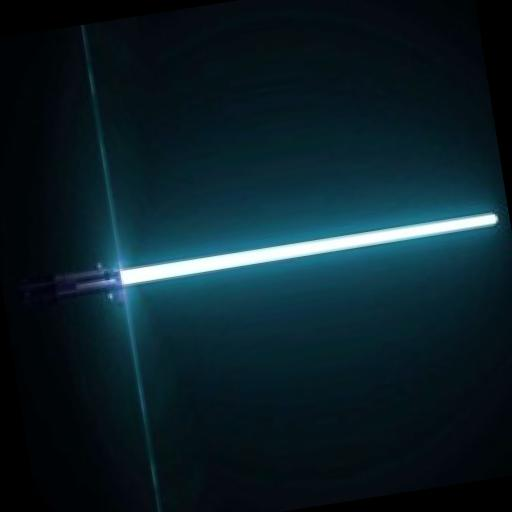lightsaber: (15, 200, 498, 314)
